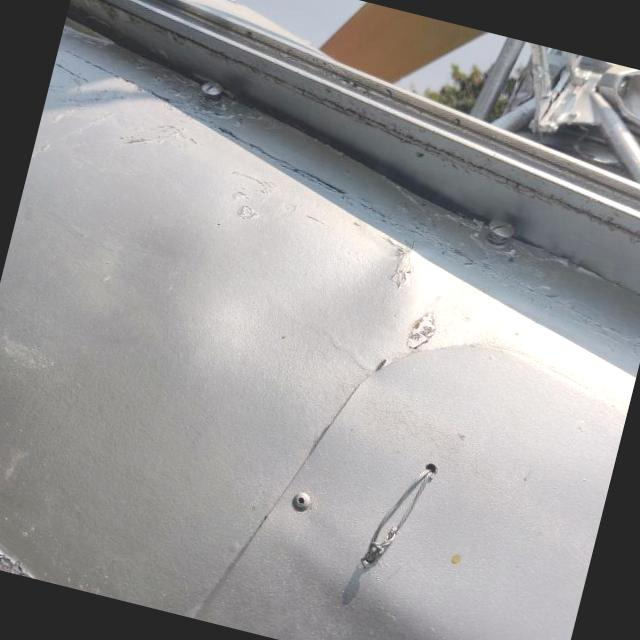dent: (191, 178, 460, 442)
